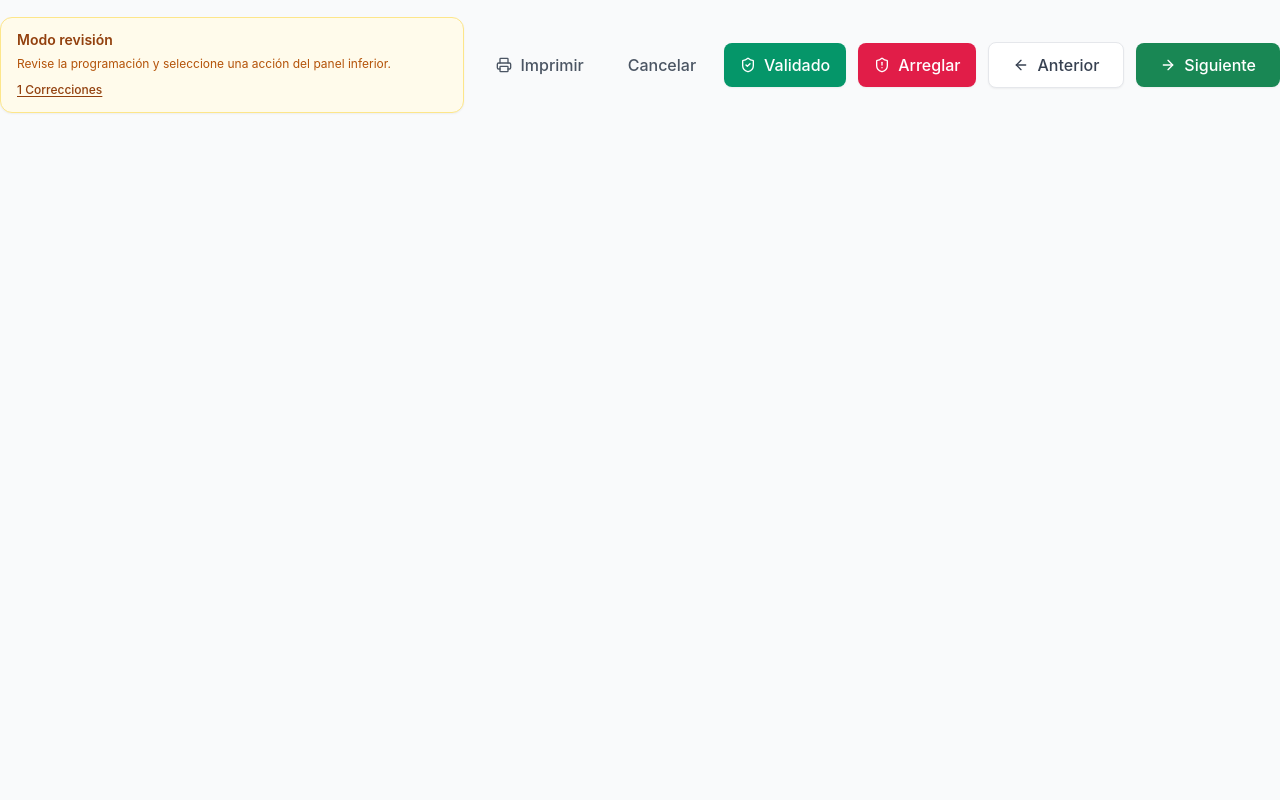
Scenario: ProgrammingActionBar › muestra la leyenda de correcciones y abre el historial
What coordinates should you click on to do the following:
click the button "1 Correcciones"
I would click on:
 (60, 90)
Its box is [17,82,102,98].
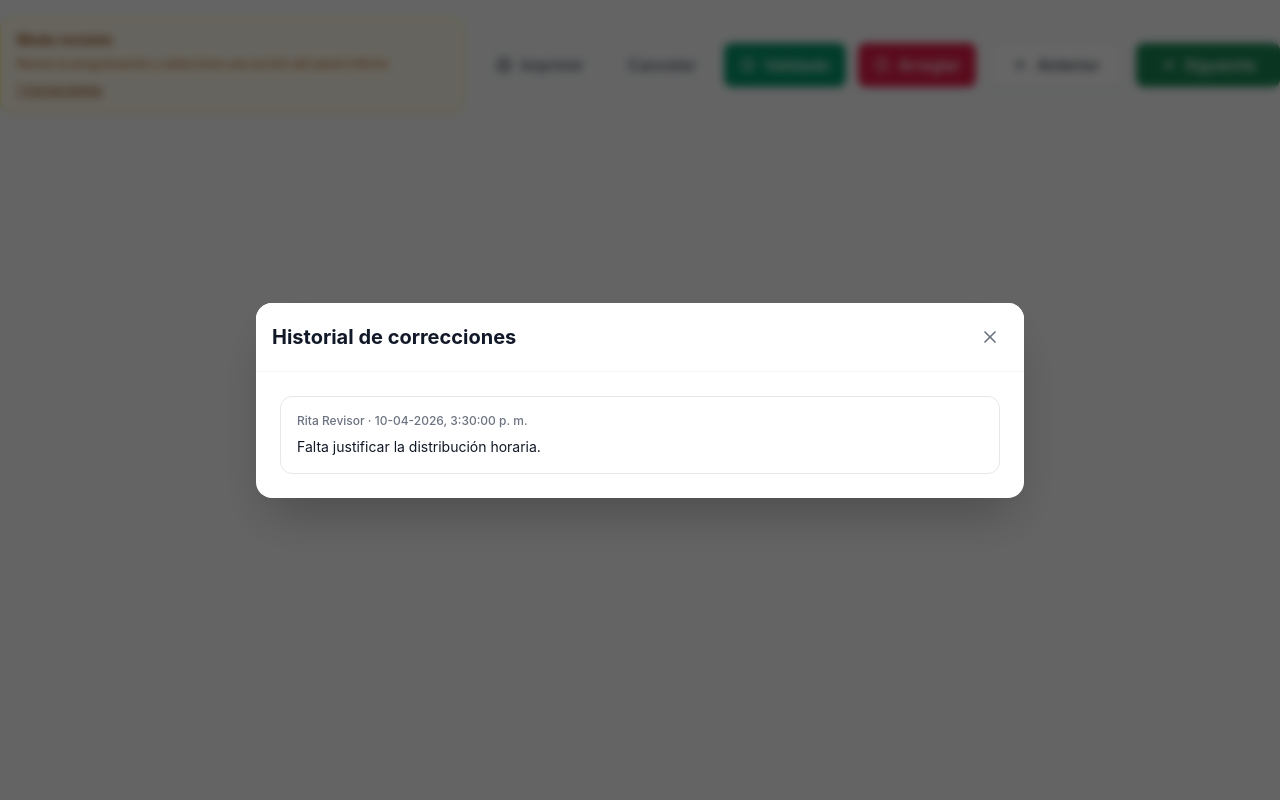
expect the text "Historial de correcciones" is shown: met, box [272,324,516,348]
expect the text "Falta justificar la distribución horaria." is shown: met, box [297,438,541,454]
expect the text "Rita Revisor · 10-04-2026, 3:30:00 p. m." is shown: met, box [297,412,528,428]
